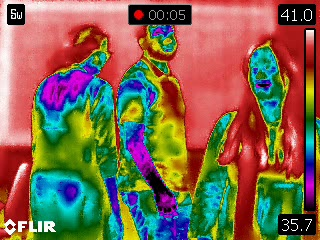human: (188, 36, 307, 240), (29, 23, 121, 240), (122, 19, 199, 240)
